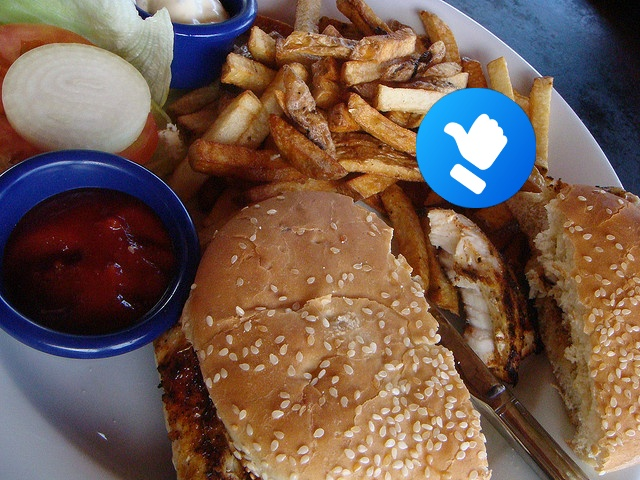like: (416, 88, 536, 208)
